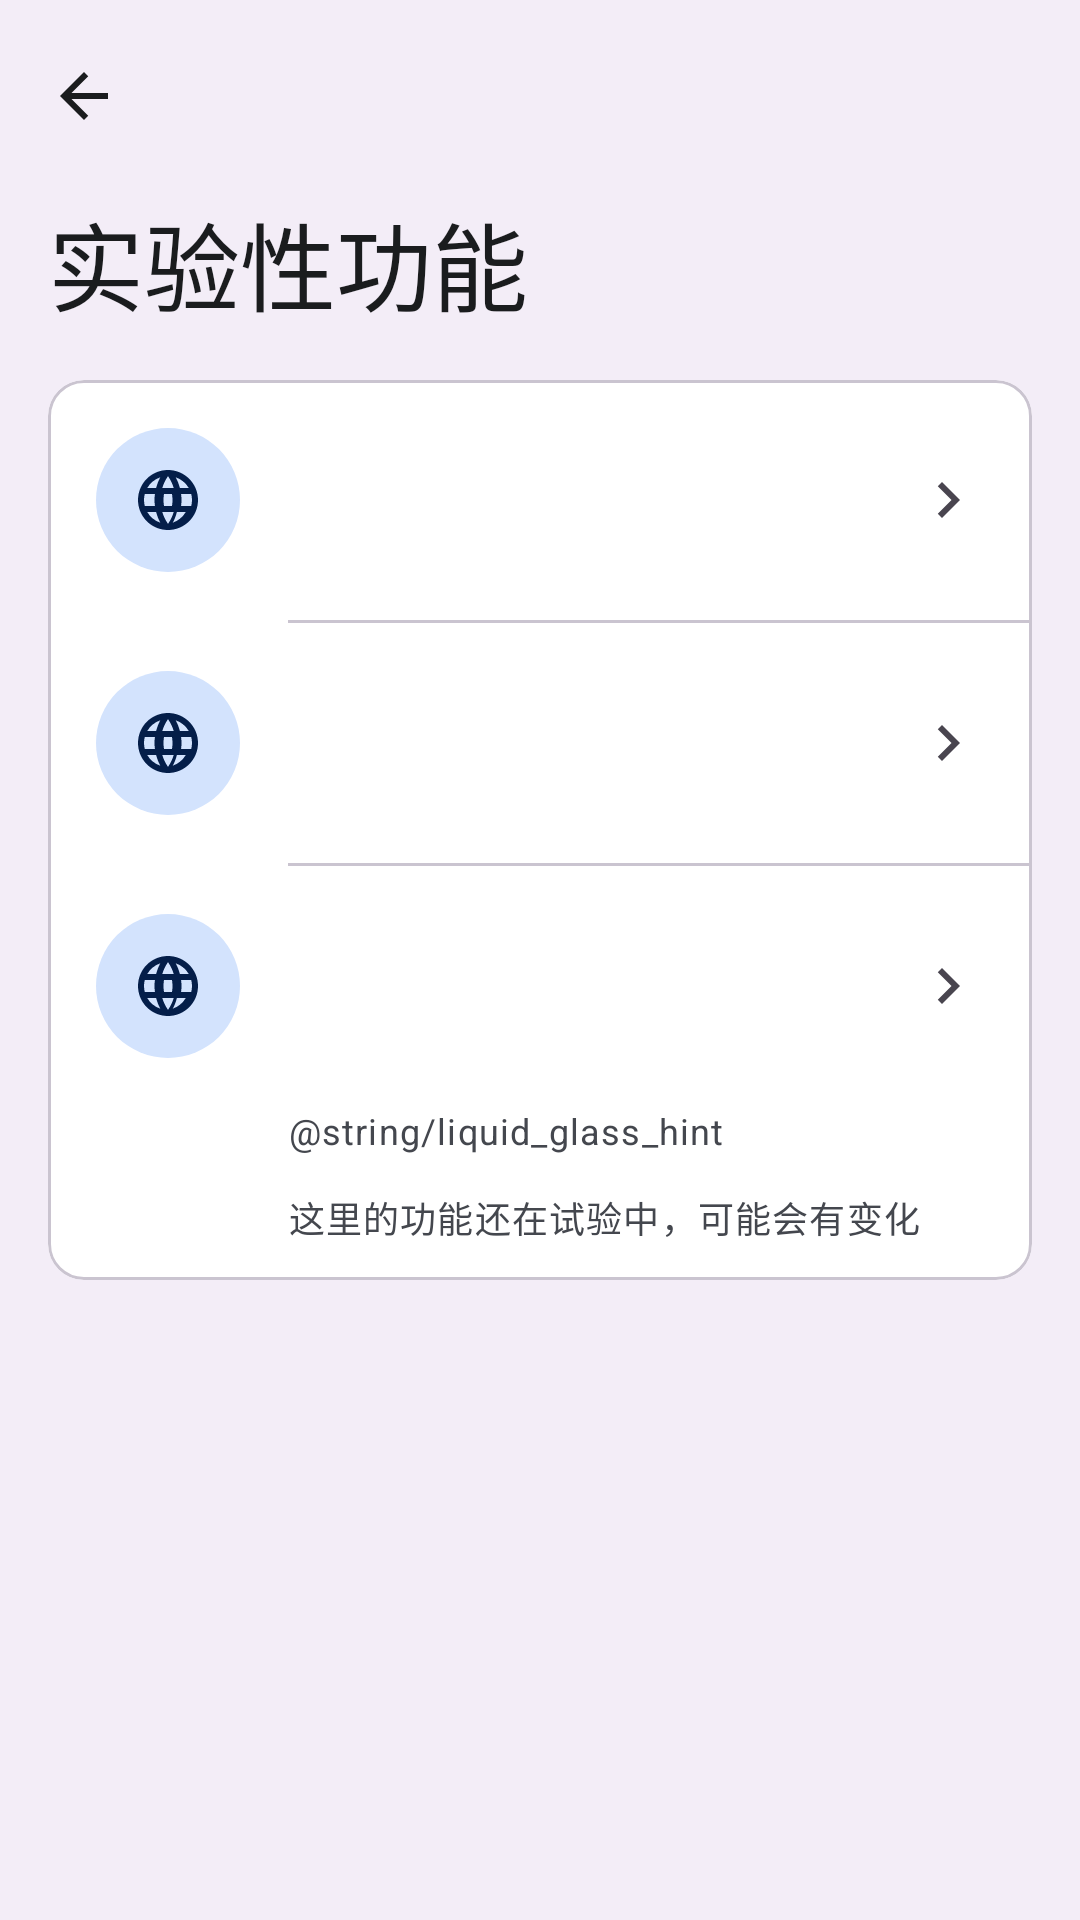

Where to tap for icons on this 1080w x 1920h app screen, as (x=x, y=y):
chevron right: (x=949, y=500), (x=949, y=743), (x=949, y=986)
language: (x=168, y=500), (x=168, y=743), (x=168, y=986)
